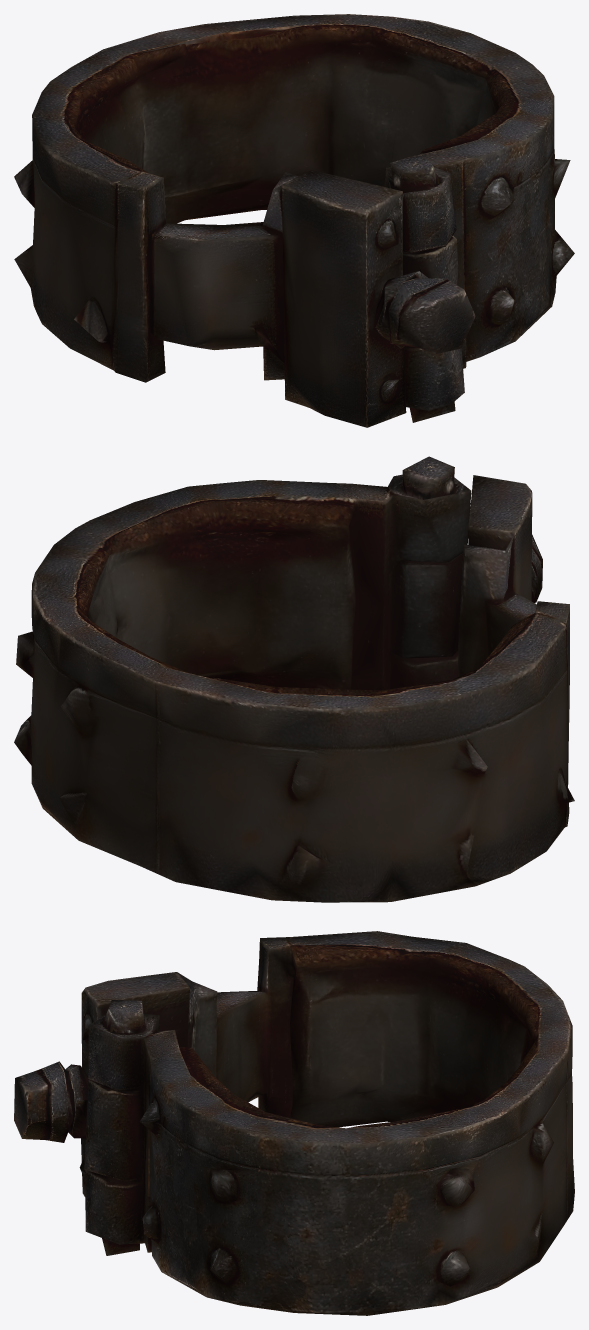
Rendered from raw_cuff.glb.
The picture shows the model from 3 angles, top to bottom: view 1: azimuth 30°, elevation 25°; view 2: azimuth 150°, elevation 25°; view 3: azimuth 270°, elevation 25°; orthographic projection. The views are drawn at different scales.
Visible parts, largest first — view 1: tripo_node_ceb837fa-a7a9-42b3-9783-6bd03996e8f8; view 2: tripo_node_ceb837fa-a7a9-42b3-9783-6bd03996e8f8; view 3: tripo_node_ceb837fa-a7a9-42b3-9783-6bd03996e8f8.
Part boxes in pixels (left/top/right/bottom): tripo_node_ceb837fa-a7a9-42b3-9783-6bd03996e8f8: left=14, top=14, right=574, bottom=427; tripo_node_ceb837fa-a7a9-42b3-9783-6bd03996e8f8: left=14, top=456, right=574, bottom=902; tripo_node_ceb837fa-a7a9-42b3-9783-6bd03996e8f8: left=14, top=931, right=574, bottom=1315.
Bounding box in the file's own units: 0.9067 × 0.4689 × 1.
1 material, 1 textured.
